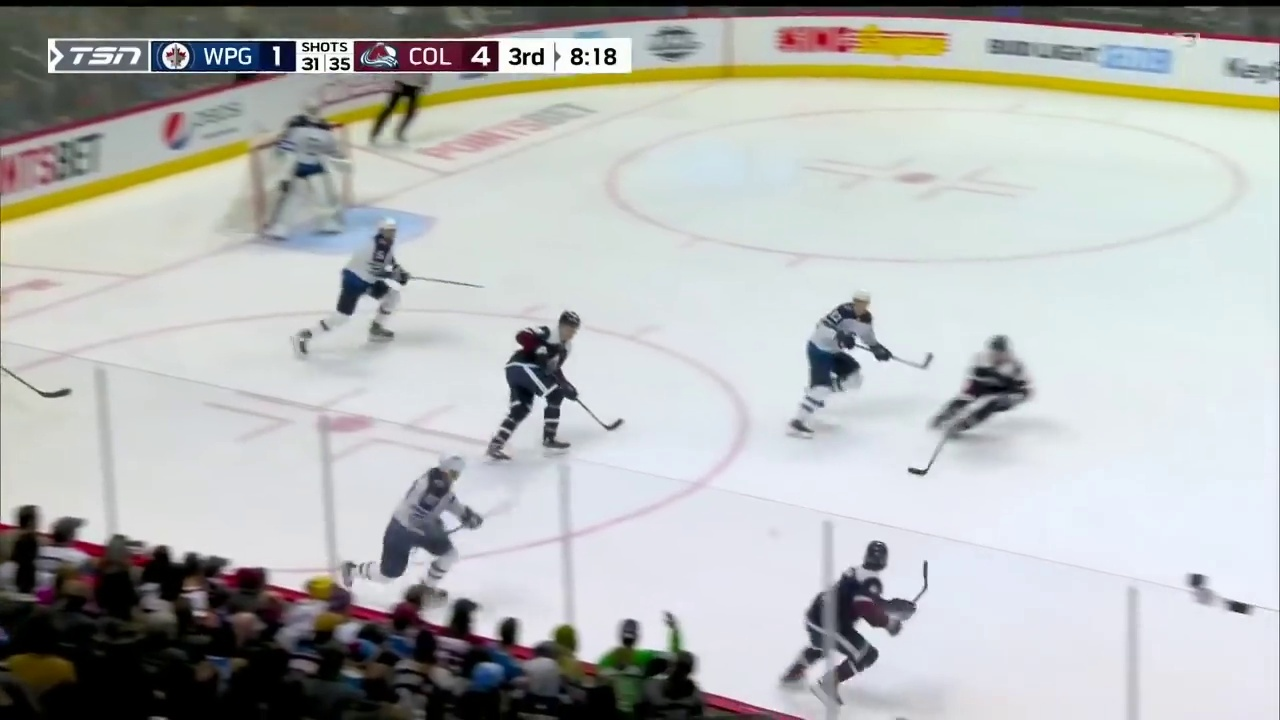goalie: (263, 97, 352, 241)
hockeyplayer: (780, 540, 918, 712), (341, 452, 483, 605), (290, 217, 411, 358), (787, 289, 892, 439), (483, 310, 580, 466), (928, 336, 1035, 440)
referee: (369, 74, 432, 144)
